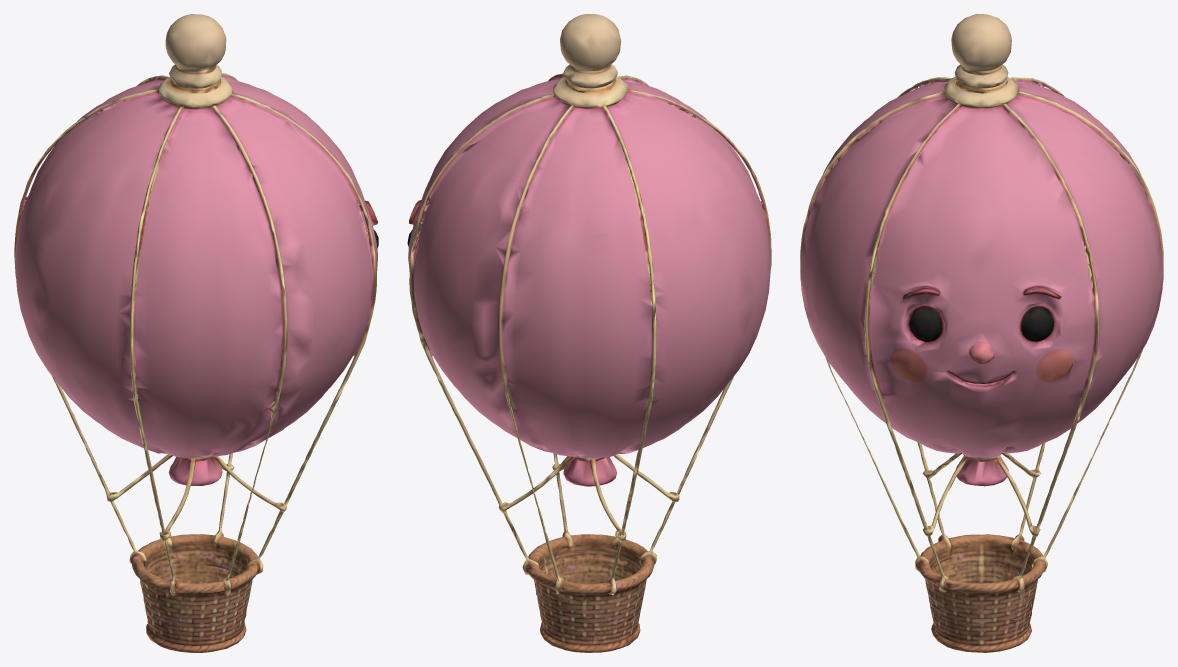
3 renders of one model, left to right at view 1: azimuth 30°, elevation 25°; view 2: azimuth 150°, elevation 25°; view 3: azimuth 270°, elevation 25°, orthographic.
Parts seen in each view (by area): view 1: repaired; view 2: repaired; view 3: repaired.
Part boxes in pixels (x1,y1,x2,y2): repaired: (14,14,378,652); repaired: (407,14,771,652); repaired: (800,14,1163,652).
Size of the model in its own units: 0.5532 by 0.9995 by 0.5353.
1 material, 1 textured.
